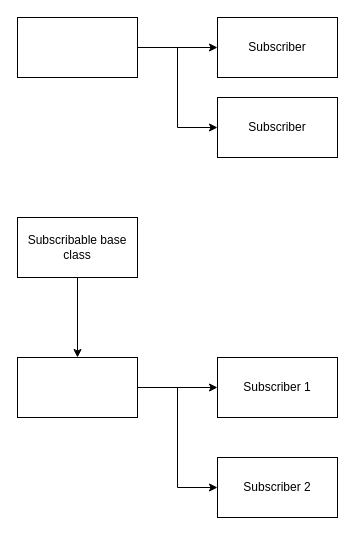
The diagram is 355 pixels wide and 535 high, and some of its shapes have lost their labels. Each missing label, with the centre of its shape:
"Data Object" goes at [77,387].
"Subscribable Object" goes at [77,47].
